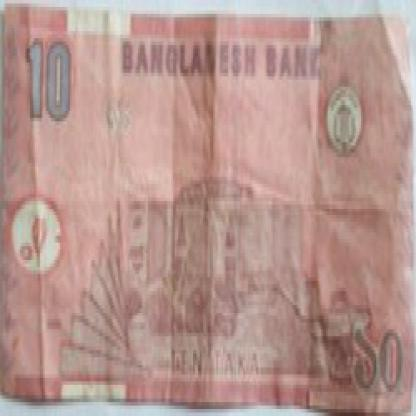Ten Taka: (350, 316, 410, 402), (24, 35, 76, 128)
